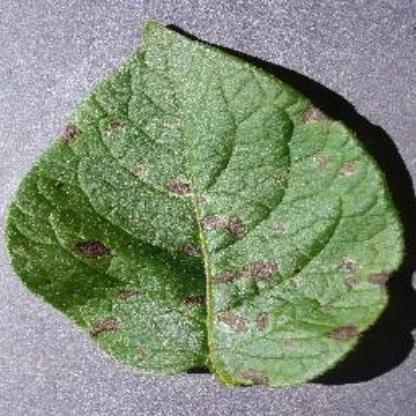Early-Blight: (4, 16, 416, 394)
